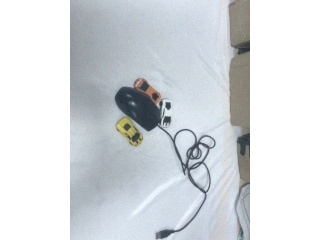box: (230, 51, 250, 128)
mouse: (116, 87, 160, 131)
toy_car: (116, 117, 144, 146)
